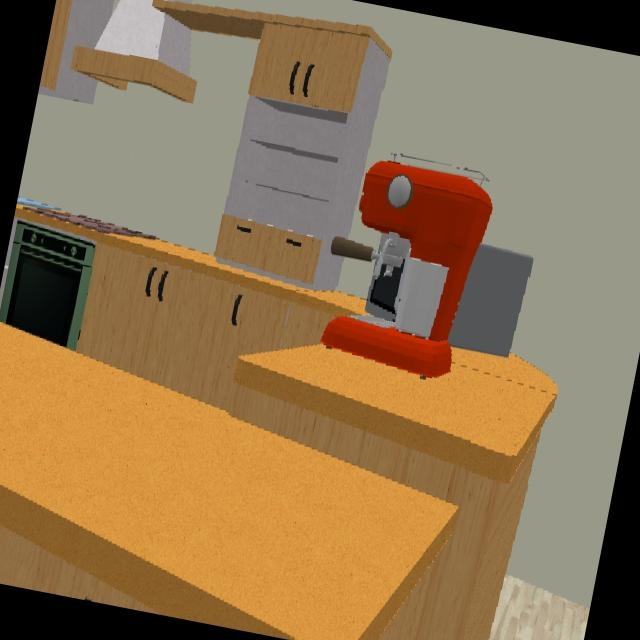cabinet: (215, 24, 389, 290), (80, 252, 328, 409)
countertop: (0, 324, 456, 640), (234, 346, 555, 481), (95, 236, 361, 313)
microwave: (448, 244, 533, 356), (365, 264, 403, 320)
oven: (0, 324, 457, 640), (236, 346, 555, 481), (0, 221, 96, 349)
shelf: (152, 1, 392, 57)
stove: (24, 206, 157, 238)
